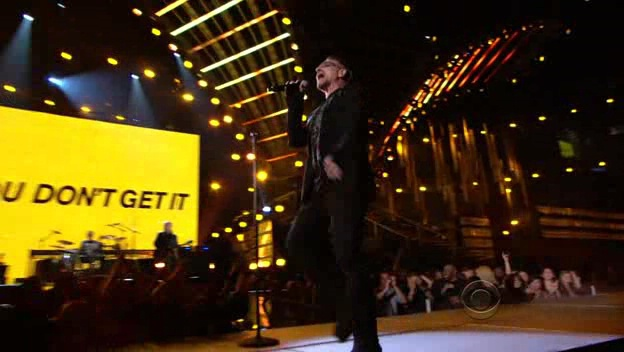person: (295, 57, 366, 230), (292, 57, 363, 230), (298, 57, 369, 230), (295, 54, 366, 227), (295, 60, 366, 233)
target_negative: (109, 67, 456, 293), (232, 198, 615, 243), (492, 314, 605, 345), (510, 49, 586, 69), (283, 350, 624, 352), (121, 253, 124, 306)
